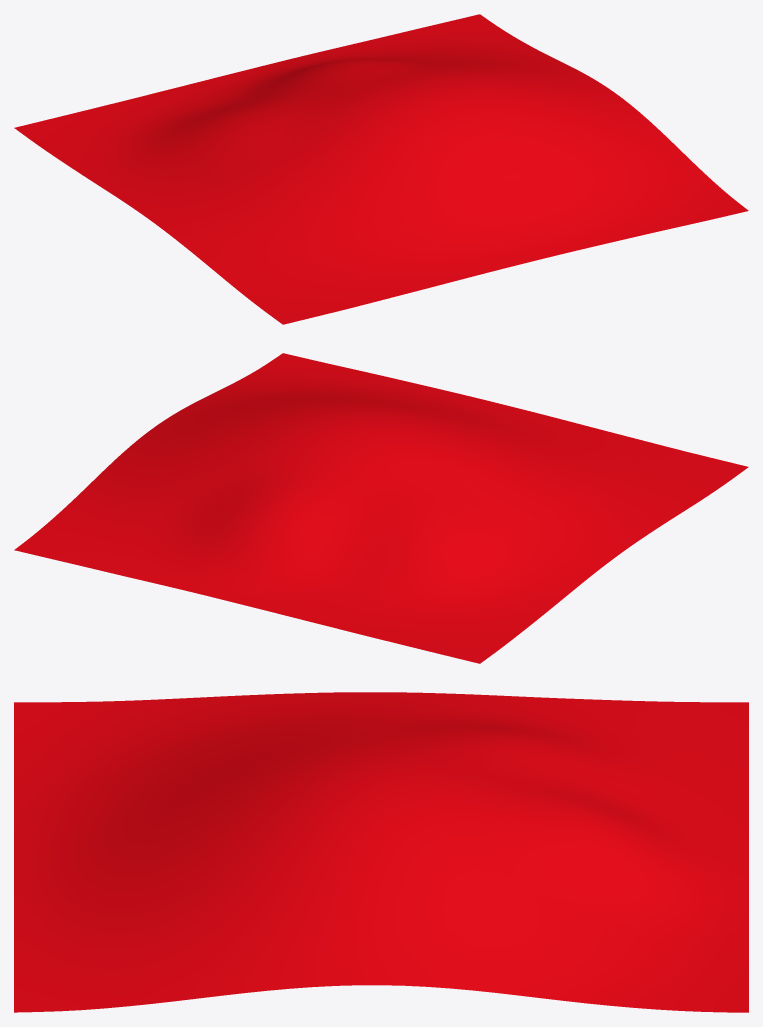
File: simpleterrainblender.glb
3 renders of one model, top to bottom at view 1: azimuth 30°, elevation 25°; view 2: azimuth 150°, elevation 25°; view 3: azimuth 270°, elevation 25°, orthographic. The views are drawn at different scales.
Parts seen in each view (by area): view 1: Plane; view 2: Plane; view 3: Plane.
Boxes of the visible parts, <box> form: Plane: <box>14,14,748,324</box>; Plane: <box>14,353,748,663</box>; Plane: <box>14,692,748,1012</box>.
Bounding box in the file's own units: 200 × 27.62 × 200.
